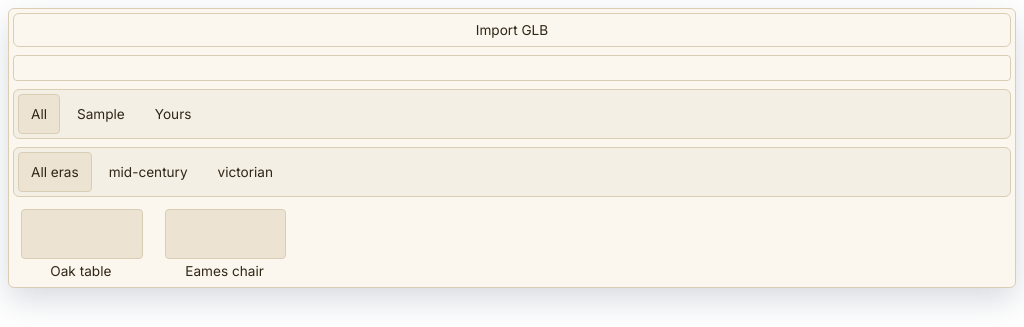
LibraryPanel filtering › shows only pack-scoped items when the source toggle is set to Sample
Expected: the button "Eames chair" is shown, [157, 205, 292, 283]
Expected: the button "Oak table" is shown, [13, 205, 149, 283]
Click the button "Sample".
click(101, 114)  # box [64, 94, 138, 134]
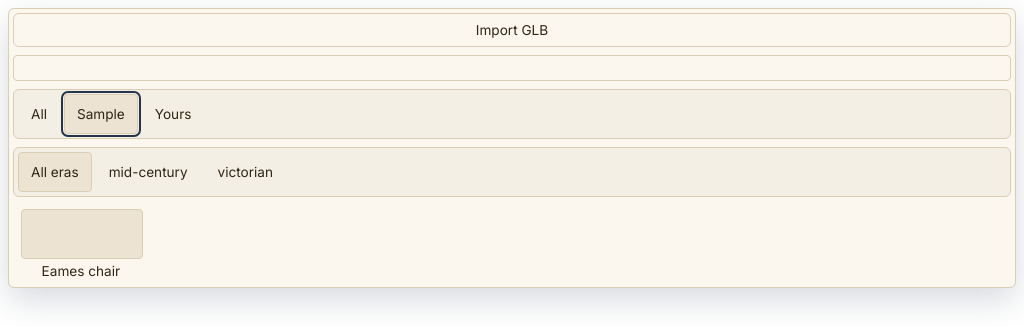
Expected: the button "Eames chair" is shown, [13, 205, 149, 283]
Now the button "Oak table" is gone
